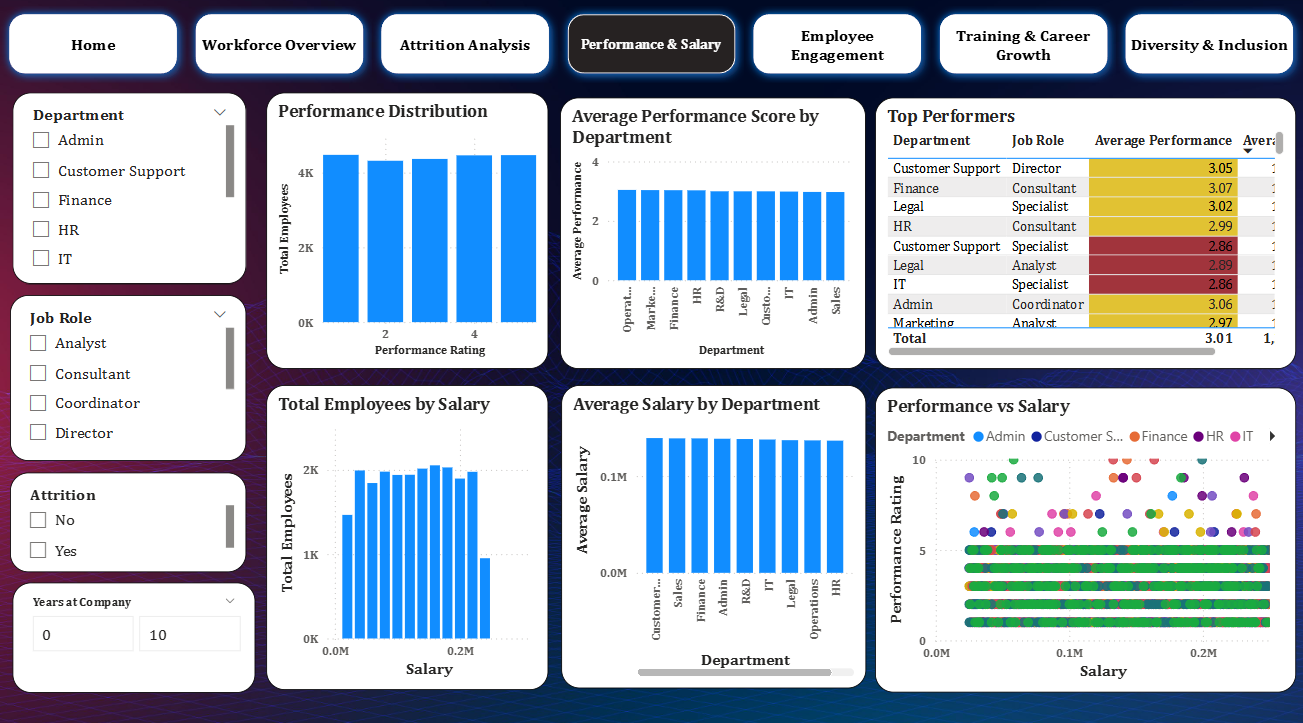

The page's visual inventory and layout, read from the dashboard file:
{"tool":"powerbi","page":{"name":"Performance & Salary","canvas":[1280,720],"ordinal":3},"visuals":[{"type":"image","box":[0,0,1280.3,720.2],"z":0},{"type":"pageNavigator","box":[0,10,1280.1,76.7],"z":1000},{"type":"clusteredColumnChart","title":"Average Performance Score by Department","fields":{"Category":["HR_Data.Department"],"Y":["HR_Data.Avg_Performance"]},"box":[547.8,100.3,299.6,265.4],"z":2000},{"type":"tableEx","title":"Top Performers","fields":{"Values":["HR_Data.Department","HR_Data.Job_Role","HR_Data.Avg_Performance","HR_Data.Avg Salary"]},"box":[856,100.3,412.1,265.4],"z":3000},{"type":"columnChart","title":"Performance Distribution","fields":{"Category":["HR_Data.Performance_Rating (bins)"],"Y":["CountNonNull(HR_Data.Employee_ID)"]},"box":[260.5,95.4,276.4,270.2],"z":4000},{"type":"clusteredColumnChart","title":"Average Salary by Department","fields":{"Category":["HR_Data.Department"],"Y":["HR_Data.Avg Salary"]},"box":[549.1,381.5,298.4,297.1],"z":5000},{"type":"columnChart","fields":{"Category":["HR_Data.Salary (bins)"],"Y":["CountNonNull(HR_Data.Employee_ID)"]},"box":[260.5,381.5,276.4,298.4],"z":6000},{"type":"scatterChart","title":"Performance vs Salary","fields":{"X":["HR_Data.Salary"],"Y":["Sum(HR_Data.Performance_Rating)"],"Series":["HR_Data.Department"]},"box":[856,384,412.1,298.4],"z":7000},{"type":"slicer","fields":{"Values":["HR_Data.Department"]},"box":[12.2,95.4,228.7,187.1],"z":8000},{"type":"slicer","fields":{"Values":["HR_Data.Job_Role"]},"box":[9.8,293.5,231.1,162.6],"z":9000},{"type":"slicer","fields":{"Values":["HR_Data.Attrition"]},"box":[9.8,467.1,231.1,97.8],"z":10000},{"type":"slicer","fields":{"Values":["HR_Data.Years_at_Company"]},"box":[12.2,574.7,237.2,107.6],"z":11000}]}

Visuals, with their boxes in screenshot pixels (x1, y1, x2, y2), scaled from the page's 1280x720 canvas onto the 1303x723 screenshot:
image: 0/0/1302/722
pageNavigator: 0/10/1302/87
"Average Performance Score by Department" clusteredColumnChart: 558/101/863/367
"Top Performers" tableEx: 871/101/1291/367
"Performance Distribution" columnChart: 265/96/547/367
"Average Salary by Department" clusteredColumnChart: 559/383/863/681
columnChart - HR_Data.Salary (bins) x CountNonNull(HR_Data.Employee_ID): 265/383/547/683
"Performance vs Salary" scatterChart: 871/386/1291/685
slicer - HR_Data.Department: 12/96/245/284
slicer - HR_Data.Job_Role: 10/295/245/458
slicer - HR_Data.Attrition: 10/469/245/567
slicer - HR_Data.Years_at_Company: 12/577/254/685
